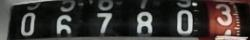digits: (93, 12, 112, 39), (136, 11, 154, 39), (55, 14, 73, 38), (176, 10, 193, 34), (215, 3, 232, 25), (20, 12, 35, 35)
